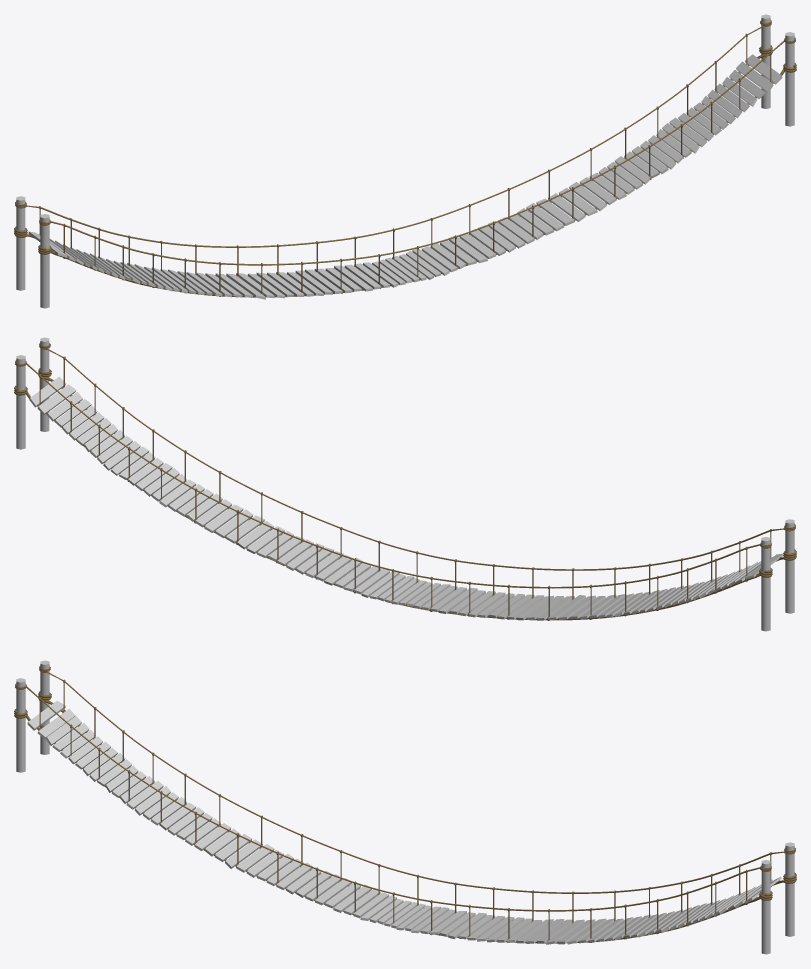
The model's file is Bridge_Rope.fbx.
3 views of the same model, one above another, from view 1: azimuth 30°, elevation 25°; view 2: azimuth 150°, elevation 25°; view 3: azimuth 330°, elevation 25° (orthographic).
Visible parts, largest first — view 1: _Bridge_Rope; view 2: _Bridge_Rope; view 3: _Bridge_Rope.
Part boxes in pixels (x1,y1,x2,y2): _Bridge_Rope: (14, 14, 796, 308); _Bridge_Rope: (14, 337, 796, 631); _Bridge_Rope: (14, 660, 796, 954).
Bounding box in the file's own units: 3165 × 623 × 245.
